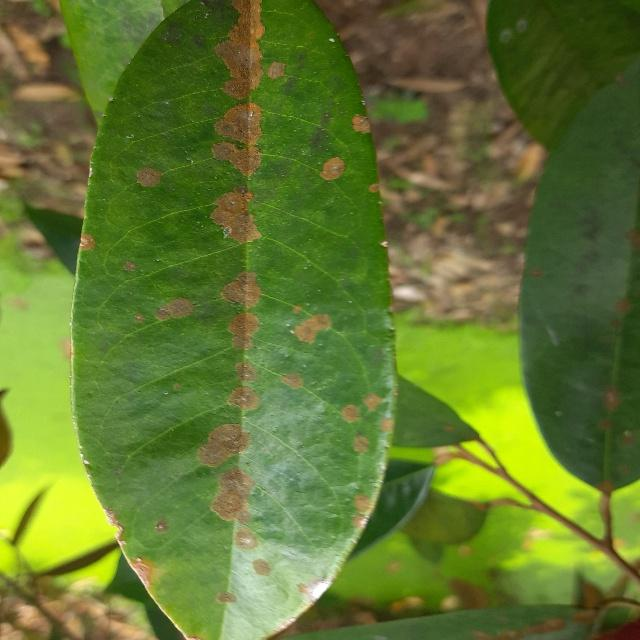Algal Leaf Spot: (63, 0, 406, 640)
